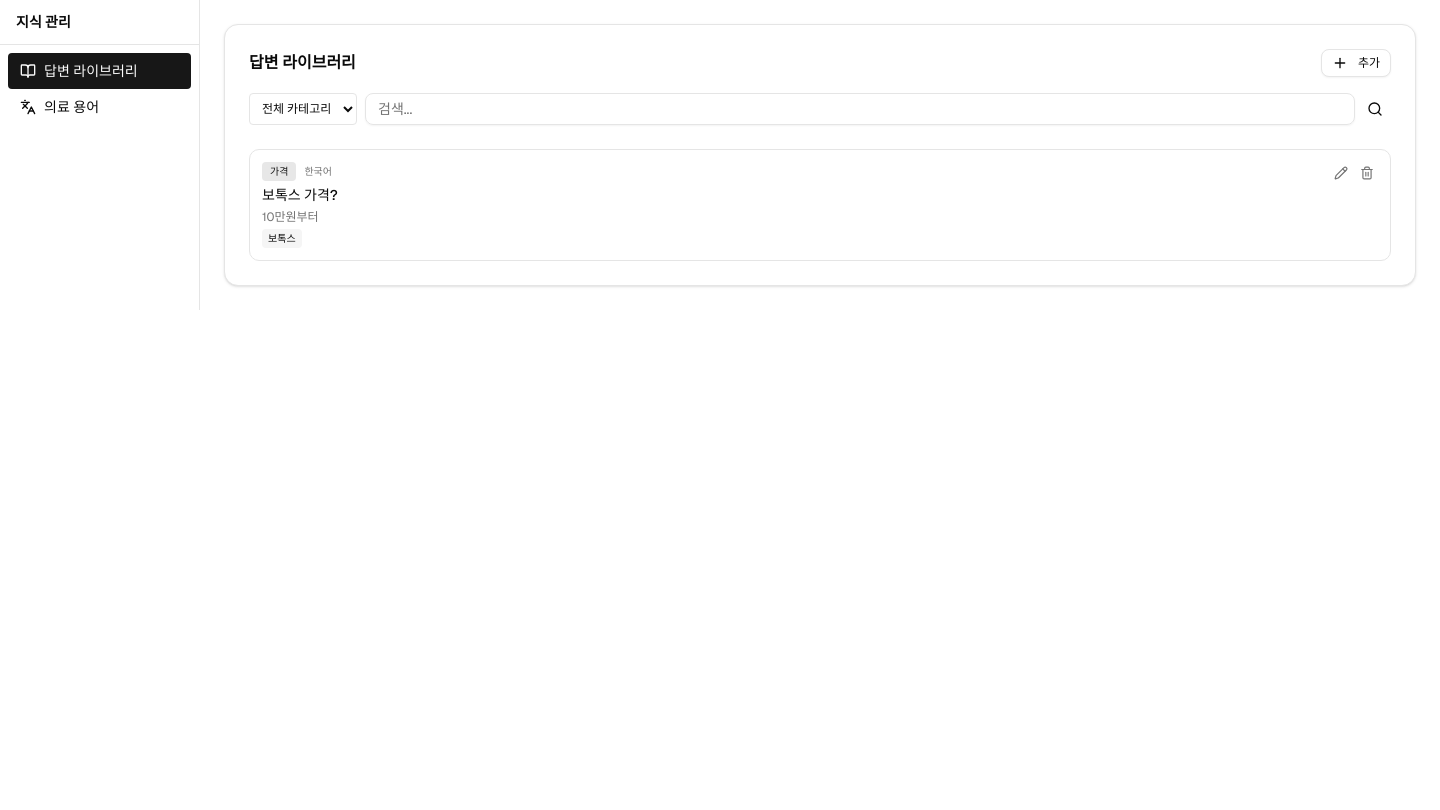
Scenario: KnowledgePage › hides create form on cancel
Expected: the text "보톡스 가격?" is shown, [262,186,338,204]
Click the button "추가". click: point(1356, 63)
box: [1321,49,1391,77]
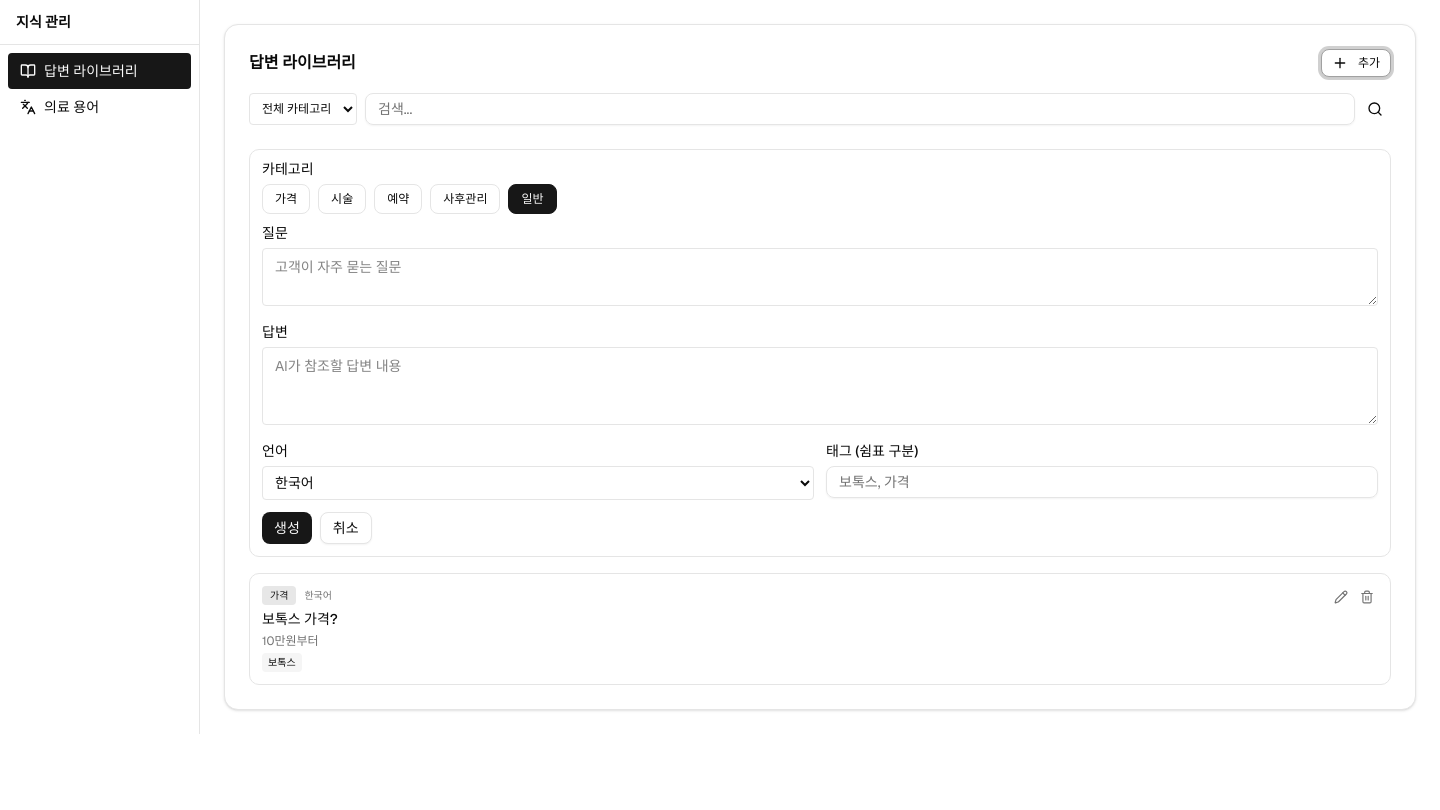
Now the text box labelled "질문" is shown, box [262,248,1378,306]
Click the button "취소". click: point(346, 528)
box: [320,512,372,544]
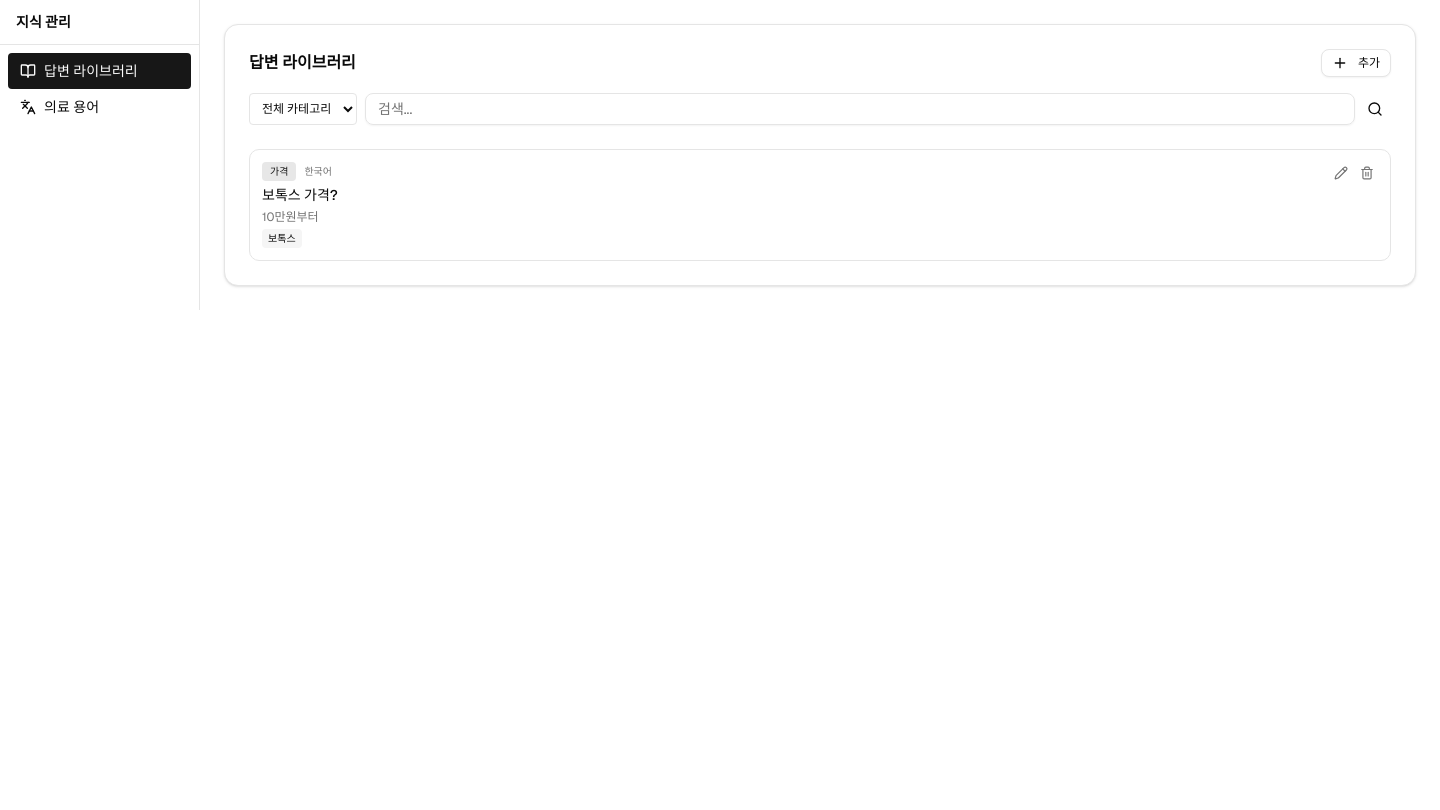
Now the label labelled "질문" is gone
